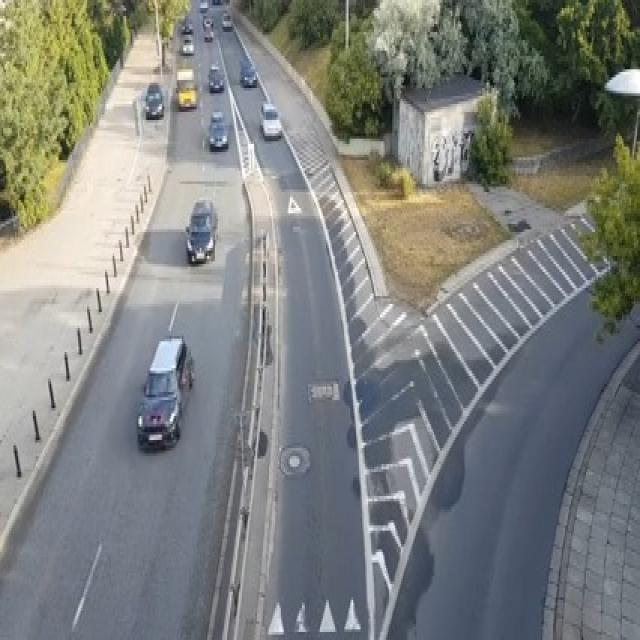car: (137, 333, 194, 448), (185, 197, 216, 264), (176, 67, 197, 109), (258, 101, 281, 139), (208, 110, 228, 150), (144, 83, 164, 117), (239, 59, 257, 85), (208, 61, 222, 91), (182, 35, 194, 53), (221, 11, 231, 29), (182, 16, 192, 32), (202, 16, 214, 29), (198, 0, 207, 13), (204, 27, 213, 40), (212, 0, 222, 3)
